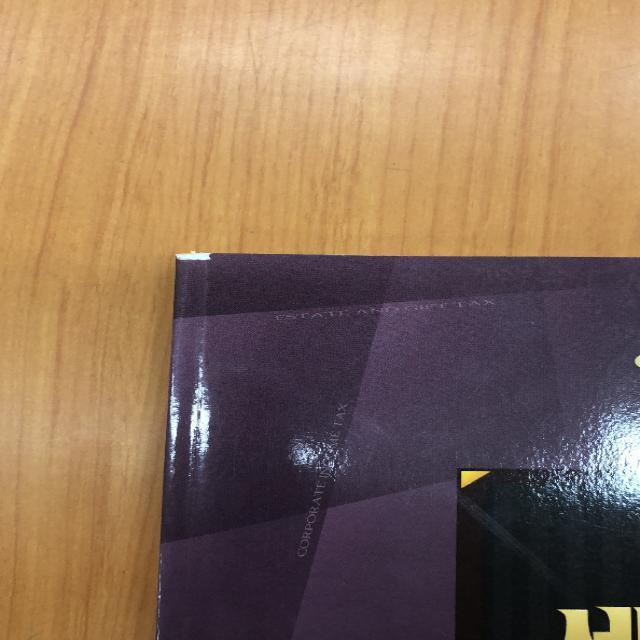Wornout: (168, 249, 245, 274)
